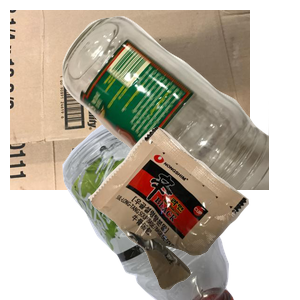cardboard: (10, 10, 250, 190)
glass: (60, 14, 300, 194)
plastic: (25, 120, 252, 300)
trash: (86, 124, 300, 300)
